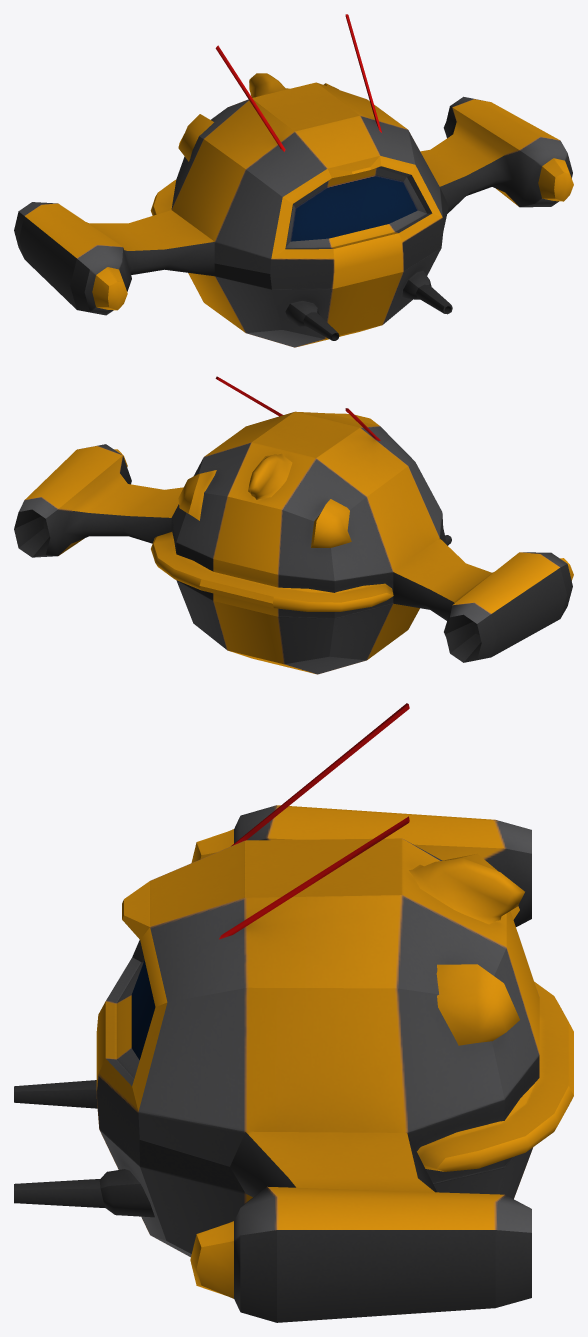
The model's file is Enemy_BubbleShip.FBX.
3 views of the same model, one above another, from view 1: azimuth 30°, elevation 25°; view 2: azimuth 150°, elevation 25°; view 3: azimuth 270°, elevation 25° (orthographic). The views are drawn at different scales.
Visible parts, largest first — view 1: Enemy_BubbleShip; view 2: Enemy_BubbleShip; view 3: Enemy_BubbleShip.
Part boxes in pixels (<box>): Enemy_BubbleShip: <box>14,14,573,347</box>; Enemy_BubbleShip: <box>14,376,573,674</box>; Enemy_BubbleShip: <box>14,703,573,1322</box>.
Bounding box in the file's own units: 5.79 × 3.08 × 3.14.
